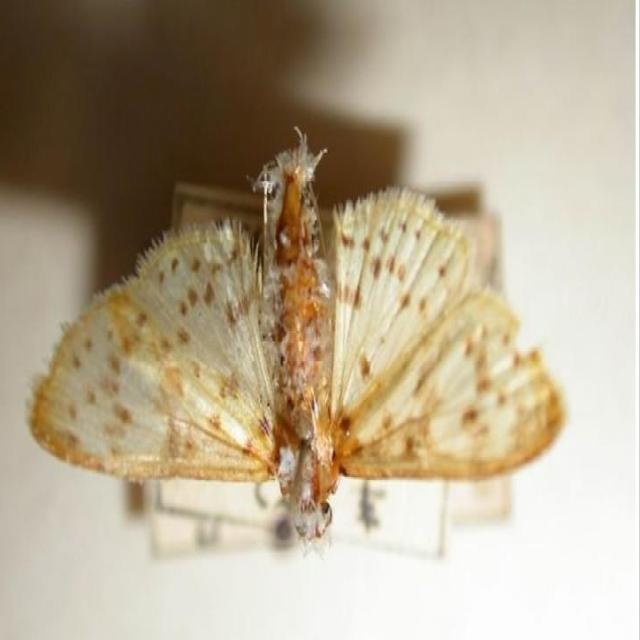peach borer: (31, 128, 570, 551)
